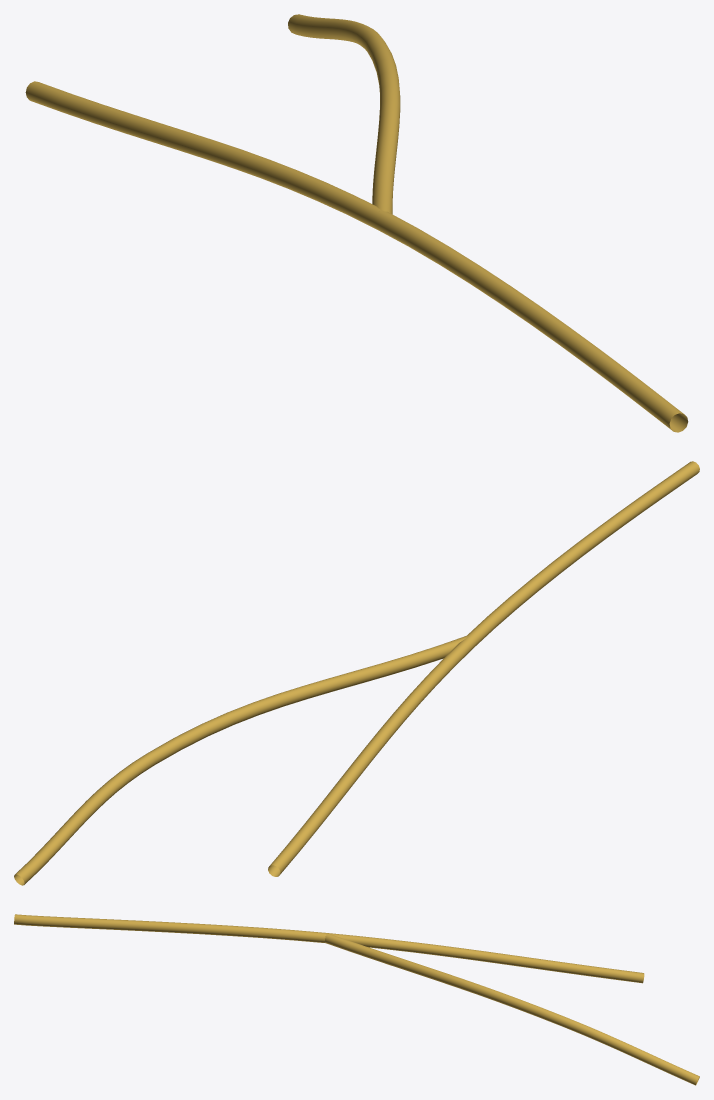
The picture shows the model from 3 angles, top to bottom: view 1: azimuth 30°, elevation 25°; view 2: azimuth 150°, elevation 25°; view 3: azimuth 270°, elevation 25°; orthographic projection. The views are drawn at different scales.
Visible parts, largest first — view 1: 左侧尺神经指掌侧总神经; view 2: 左侧尺神经指掌侧总神经; view 3: 左侧尺神经指掌侧总神经.
Part boxes in pixels (left/top/right/bottom): 左侧尺神经指掌侧总神经: left=25, top=14, right=688, bottom=432; 左侧尺神经指掌侧总神经: left=14, top=461, right=699, bottom=885; 左侧尺神经指掌侧总神经: left=14, top=914, right=699, bottom=1085.
Size of the model in its own units: 0.0276 by 0.0152 by 0.0977.
